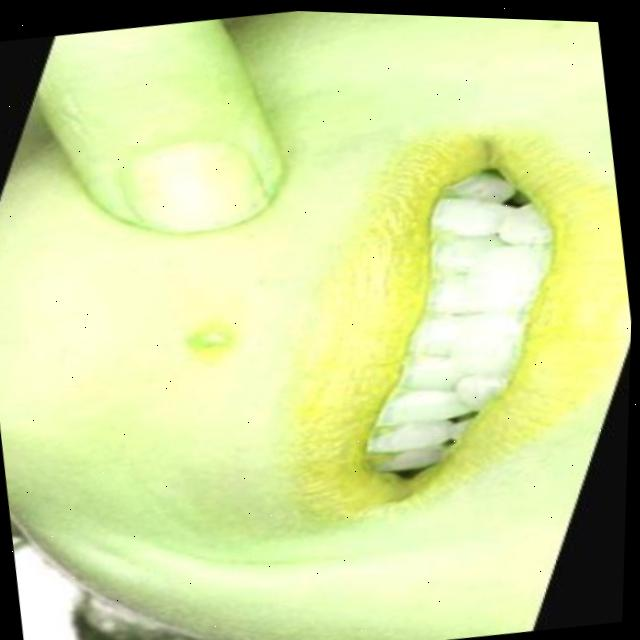Acne: (182, 312, 240, 363)
